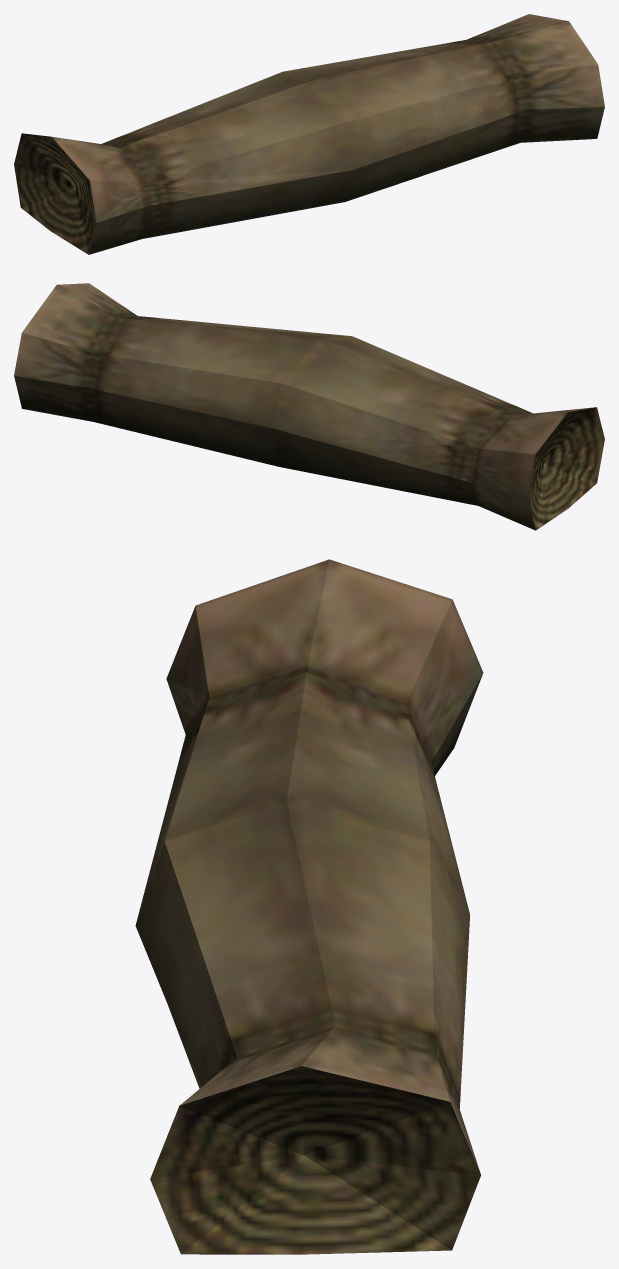
The model's file is GZ_Xsc_tanzi_01_D.FBX.
The picture shows the model from 3 angles, top to bottom: view 1: azimuth 30°, elevation 25°; view 2: azimuth 150°, elevation 25°; view 3: azimuth 270°, elevation 25°; orthographic projection. The views are drawn at different scales.
Parts seen in each view (by area): view 1: GZ_Xsc_tanzi_01_D; view 2: GZ_Xsc_tanzi_01_D; view 3: GZ_Xsc_tanzi_01_D.
Boxes of the visible parts, <box> form: GZ_Xsc_tanzi_01_D: <box>14,14,604,254</box>; GZ_Xsc_tanzi_01_D: <box>14,283,604,530</box>; GZ_Xsc_tanzi_01_D: <box>135,559,483,1254</box>.
Bounding box in the file's own units: 3.35 × 0.6429 × 0.9876.
